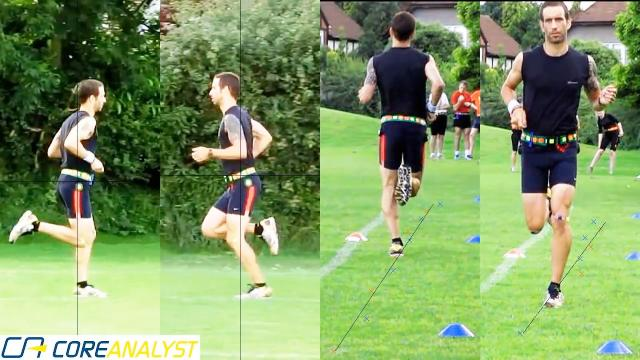berlari: (494, 0, 620, 320), (9, 65, 117, 304), (354, 12, 452, 262), (186, 60, 282, 306)
